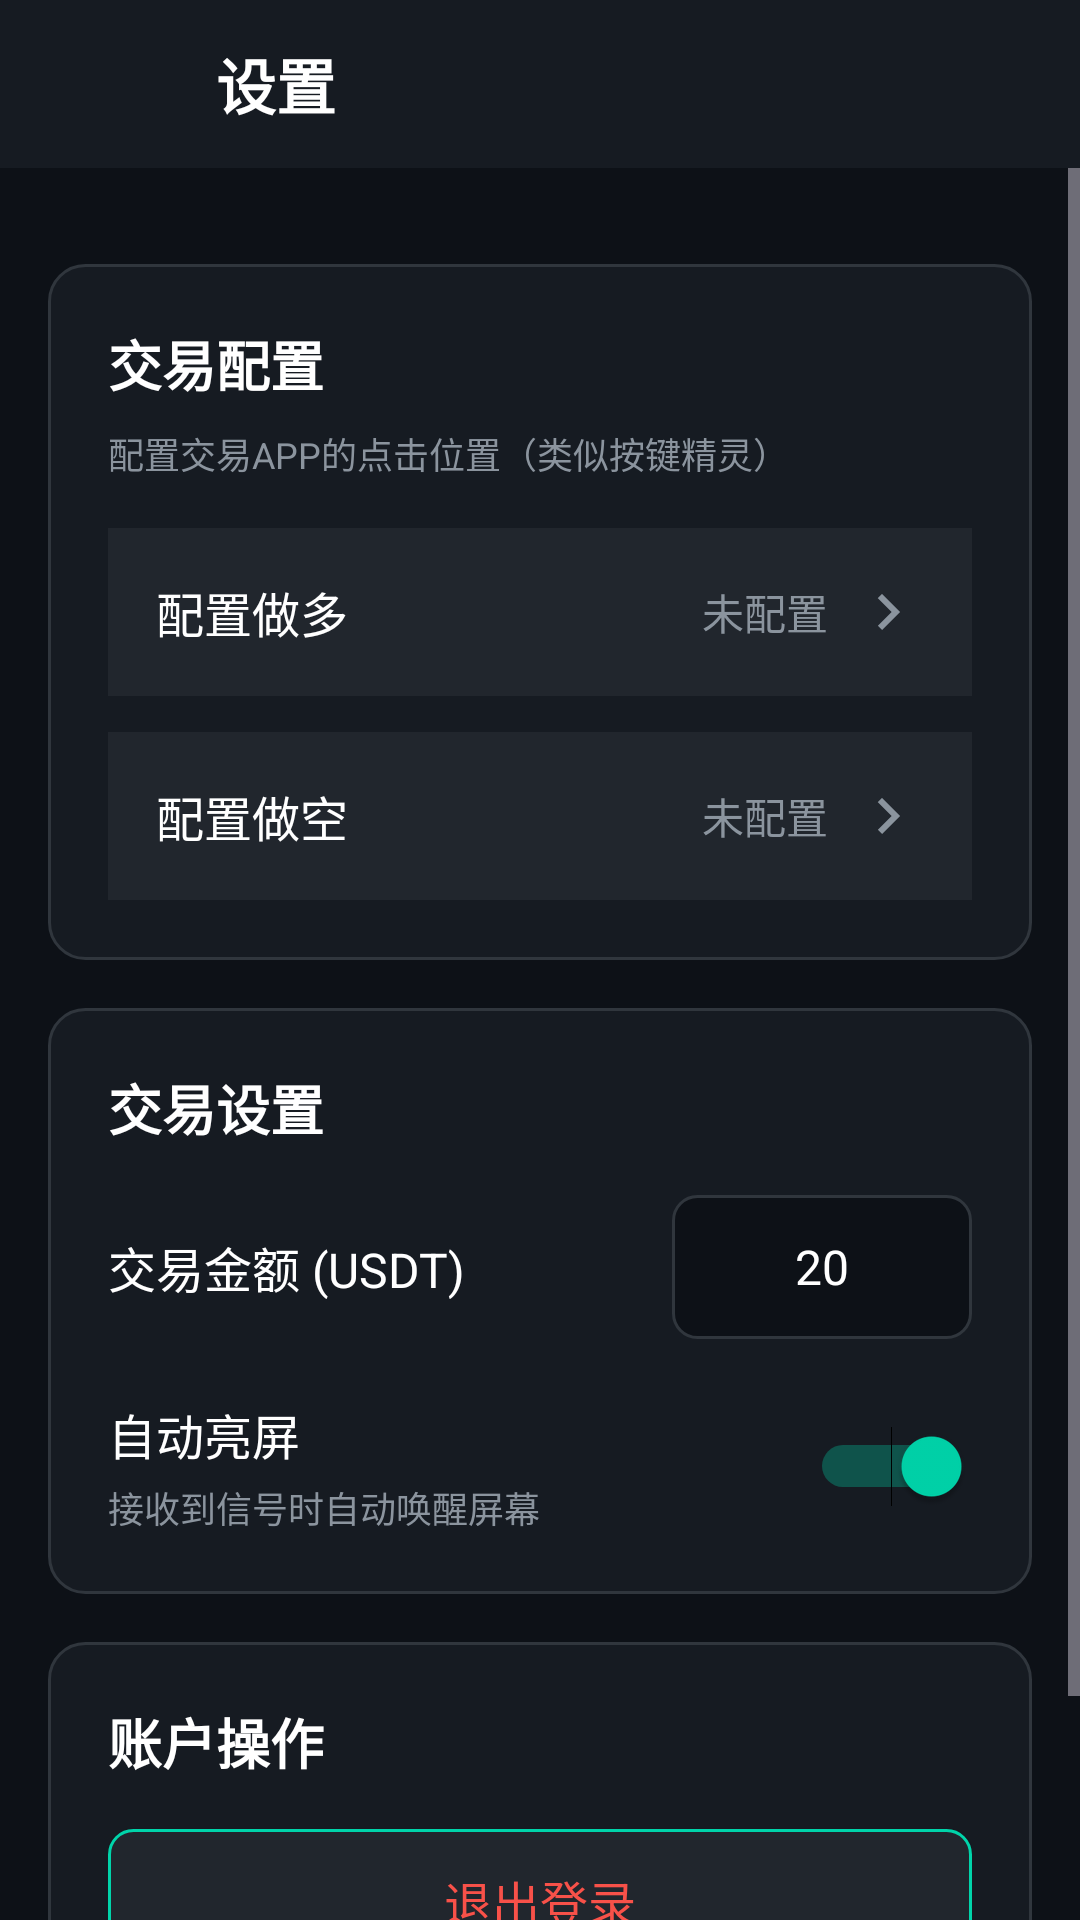

Where to tap for icons on this 1080px×1920px app screen, as point (x, y):
进入: point (889, 612), point (889, 816)
